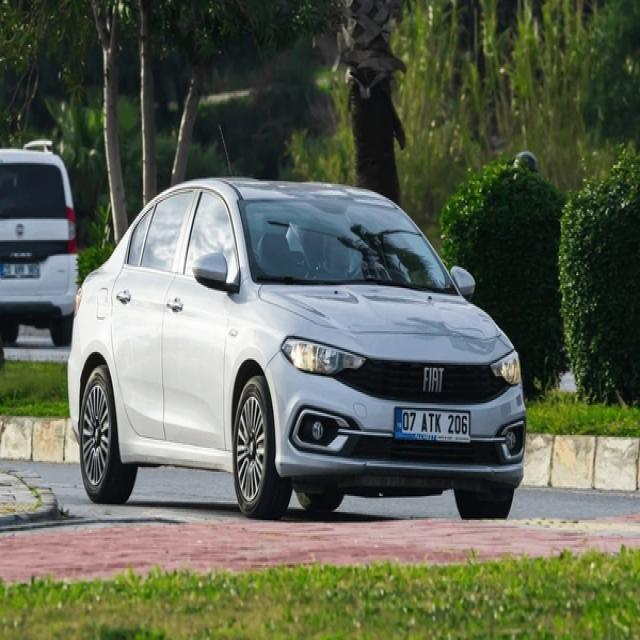fiat: (422, 365, 448, 400)
